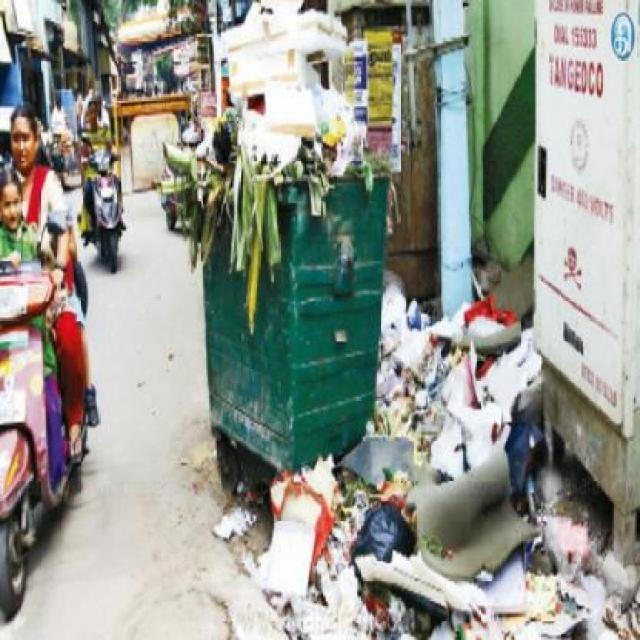garbage: (220, 471, 637, 638), (169, 11, 396, 278), (382, 282, 555, 472)
